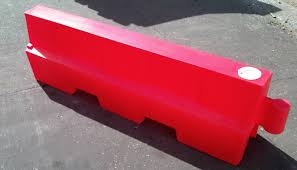barrier: (23, 4, 291, 165)
